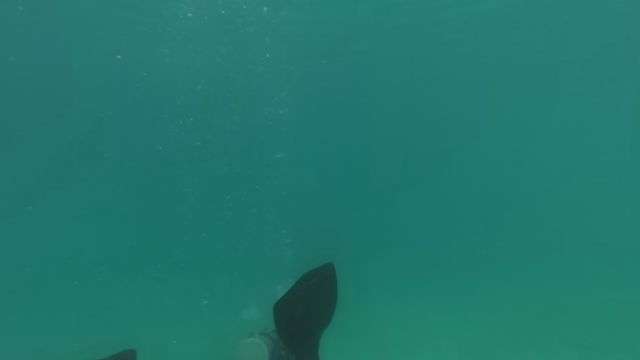Diver: (75, 249, 357, 359)
